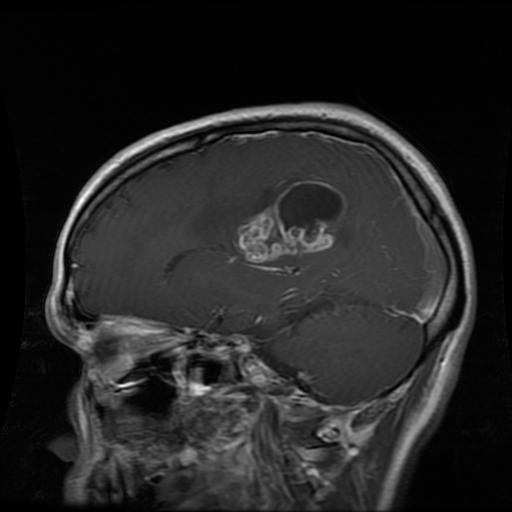Gliomia_tumour: (239, 180, 347, 263)
